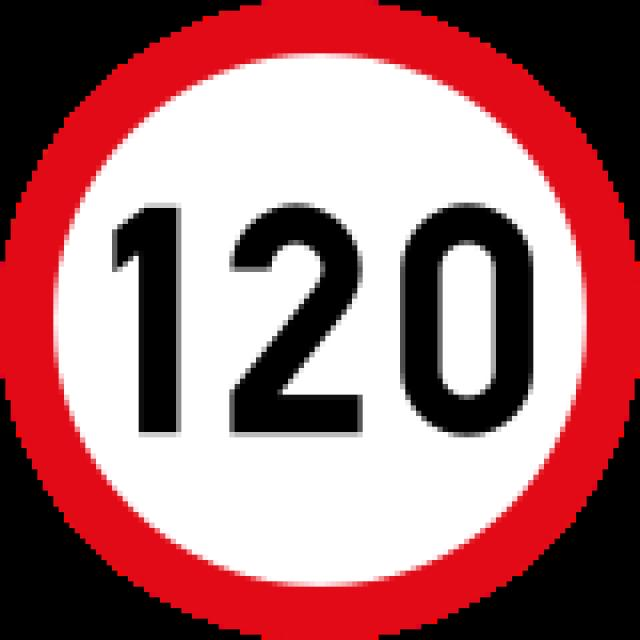Speed Limit -120-: (93, 196, 556, 453)
